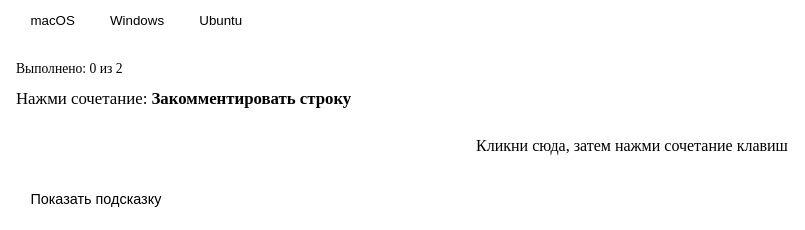
it: shows the task for the chosen OS and hides the combo until the hint is opened
Check: the text "Закомментировать строку" is shown, box 152,89 -> 351,108
Check: the text "Ctrl+/" is not shown
What coordinates should you click on to do the following:
click the button "Показать подсказку"
I would click on:
 (96, 199)
Its box is 16,184 -> 176,213.
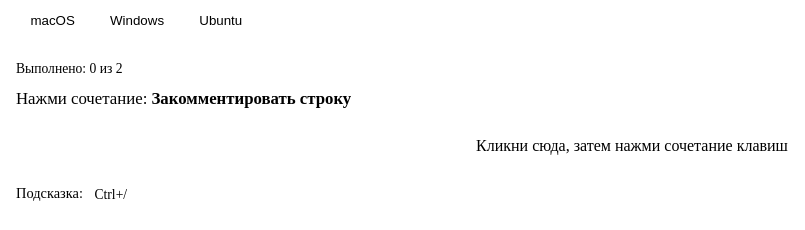
Check: the text "Ctrl+/" is shown, box 94,187 -> 127,202
